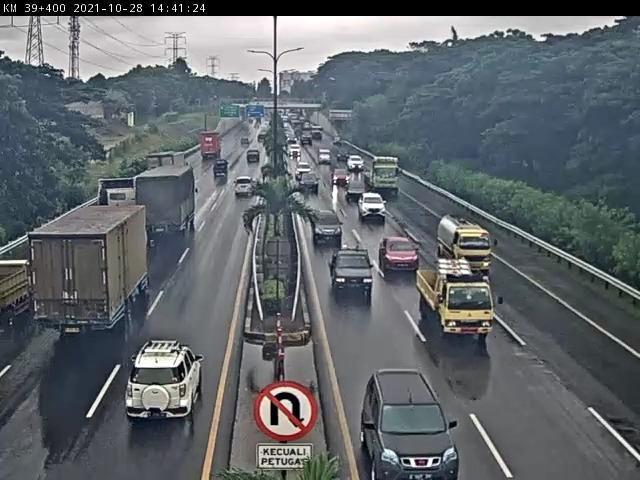car: (361, 370, 462, 480), (127, 341, 204, 423), (331, 246, 376, 298), (380, 237, 422, 275), (311, 210, 345, 246), (359, 193, 388, 222), (234, 178, 256, 197)
truck: (28, 203, 151, 333), (417, 260, 497, 342), (136, 165, 198, 237), (437, 214, 495, 277), (87, 177, 140, 230), (146, 151, 189, 184)
